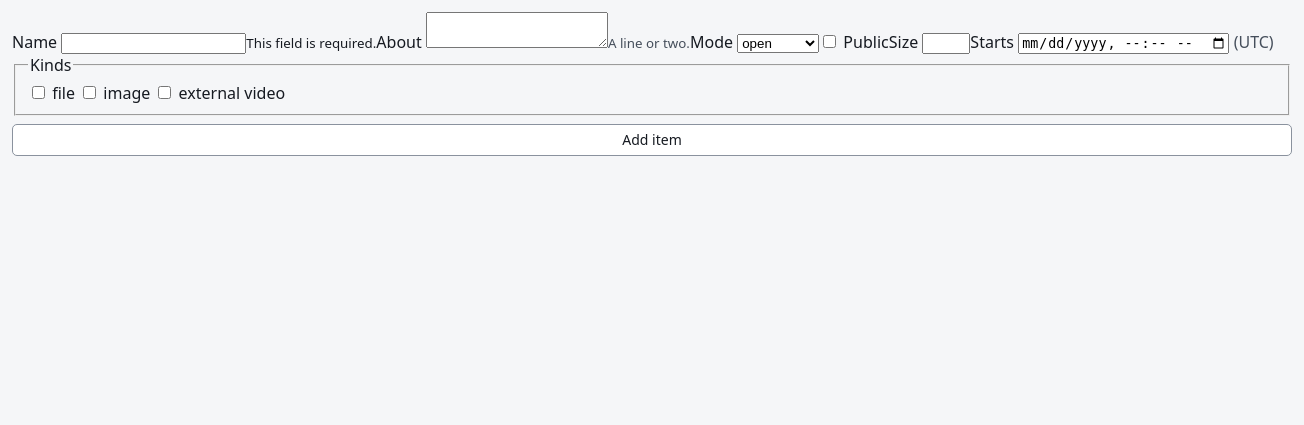
Test: SchemaForm › adds and removes rows up to the declared cap
Click the button "Add item": (652, 140) [12,124,1292,156]
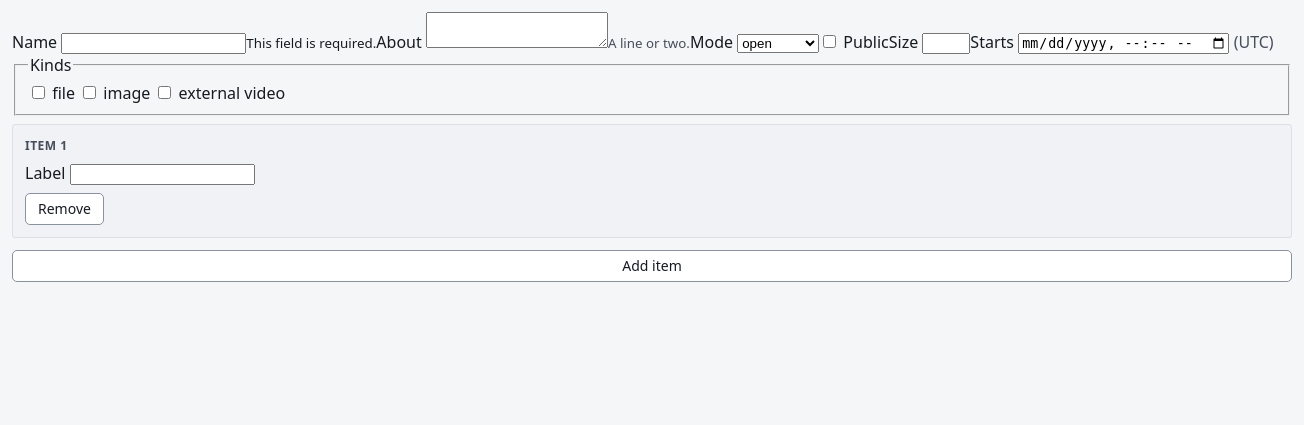
Click the button "Add item": (652, 266) [12,250,1292,282]
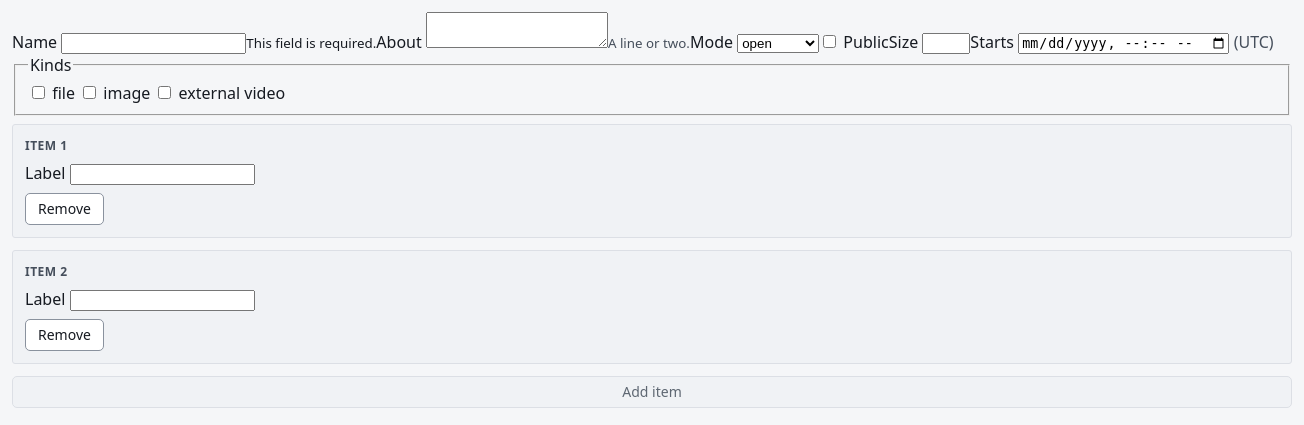
Now the button "Add item" is disabled, box [12,376,1292,408]
Now the text "Item 2" is shown, box [25,263,68,280]
Click the 1st button "Remove": (64, 209) [25,193,104,225]
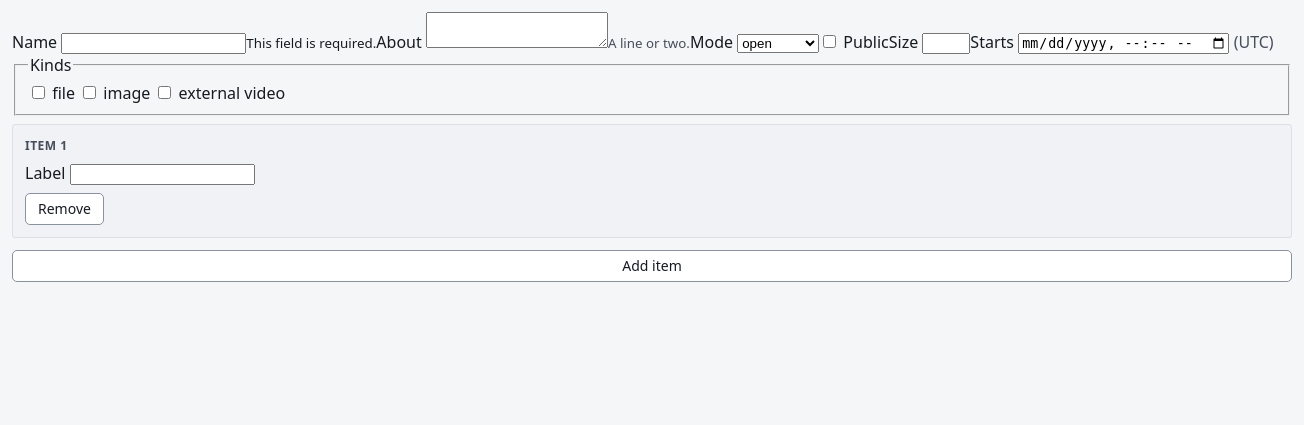
Now the button "Add item" is enabled, box [12,250,1292,282]
